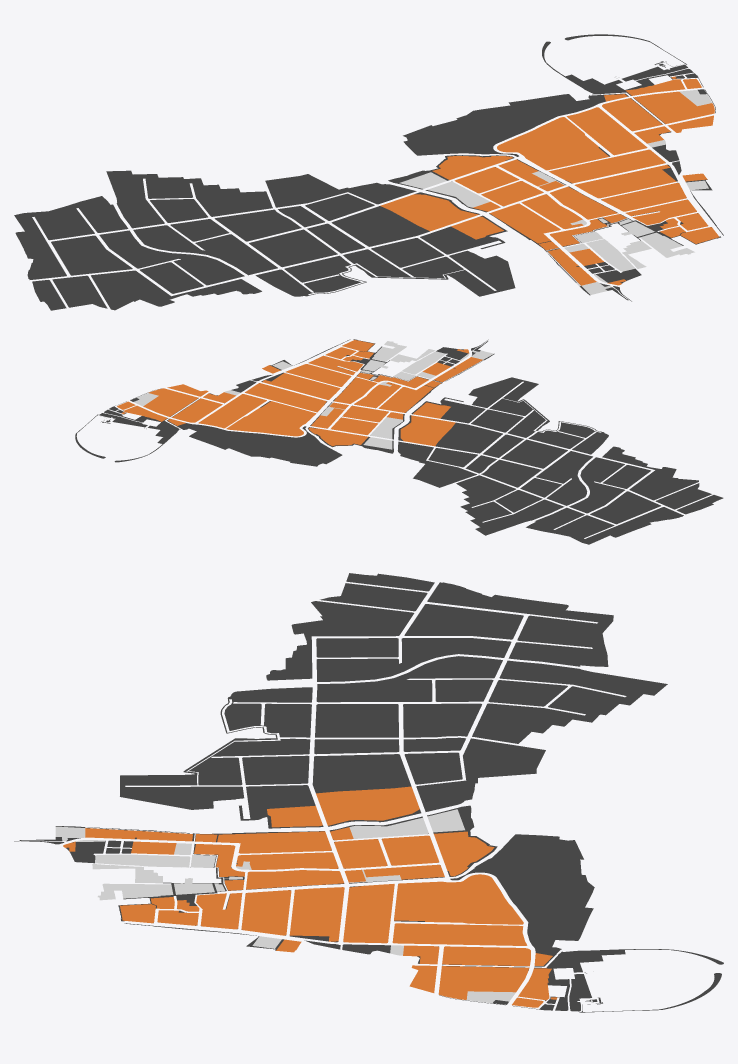
File: segments.glb
3 views of the same model, one above another, from view 1: azimuth 30°, elevation 25°; view 2: azimuth 150°, elevation 25°; view 3: azimuth 270°, elevation 25° (orthographic). The views are drawn at different scales.
Visible parts, largest first — view 1: kapling.segments, kapling.segments.i.191, kapling.segments.i.106, kapling.segments.i.155, kapling.segments.i.135, kapling.segments.i.096, kapling.segments.i.145, kapling.segments.i.195, kapling.segments.i.001, kapling.segments.i.032a, kapling.segments.i.095, kapling.segments.i.034a (+6 smaller); view 2: kapling.segments, kapling.segments.i.191, kapling.segments.i.106, kapling.segments.i.155, kapling.segments.i.135, kapling.segments.i.096, kapling.segments.i.145, kapling.segments.i.195, kapling.segments.i.001, kapling.segments.i.032a, kapling.segments.i.095, kapling.segments.i.034a (+2 smaller); view 3: kapling.segments, kapling.segments.i.191, kapling.segments.i.106, kapling.segments.i.155, kapling.segments.i.135, kapling.segments.i.096, kapling.segments.i.145, kapling.segments.i.195, kapling.segments.i.001, kapling.segments.i.032a, kapling.segments.i.095, kapling.segments.i.034a (+6 smaller).
Part boxes in pixels (left/top/right/bottom): kapling.segments: left=14, top=34, right=723, bottom=310; kapling.segments.i.191: left=380, top=194, right=478, bottom=231; kapling.segments.i.106: left=497, top=117, right=586, bottom=152; kapling.segments.i.155: left=599, top=166, right=676, bottom=194; kapling.segments.i.135: left=518, top=136, right=594, bottom=170; kapling.segments.i.096: left=633, top=91, right=696, bottom=116; kapling.segments.i.145: left=563, top=157, right=632, bottom=183; kapling.segments.i.195: left=451, top=216, right=503, bottom=239; kapling.segments.i.001: left=632, top=183, right=682, bottom=206; kapling.segments.i.032a: left=467, top=167, right=518, bottom=189; kapling.segments.i.095: left=605, top=98, right=650, bottom=121; kapling.segments.i.034a: left=447, top=156, right=512, bottom=171; kapling.segments: left=75, top=339, right=723, bottom=544; kapling.segments.i.191: left=400, top=415, right=455, bottom=446; kapling.segments.i.106: left=226, top=414, right=303, bottom=436; kapling.segments.i.155: left=268, top=373, right=326, bottom=395; kapling.segments.i.135: left=249, top=410, right=315, bottom=428; kapling.segments.i.096: left=143, top=396, right=190, bottom=416; kapling.segments.i.145: left=269, top=389, right=326, bottom=406; kapling.segments.i.195: left=413, top=402, right=450, bottom=418; kapling.segments.i.001: left=286, top=366, right=333, bottom=380; kapling.segments.i.032a: left=331, top=417, right=366, bottom=433; kapling.segments.i.095: left=172, top=405, right=212, bottom=422; kapling.segments.i.034a: left=308, top=427, right=346, bottom=446; kapling.segments: left=14, top=573, right=723, bottom=1012; kapling.segments.i.191: left=316, top=786, right=419, bottom=825; kapling.segments.i.106: left=457, top=874, right=523, bottom=924; kapling.segments.i.155: left=289, top=900, right=342, bottom=936; kapling.segments.i.135: left=397, top=881, right=468, bottom=922; kapling.segments.i.096: left=463, top=966, right=529, bottom=992; kapling.segments.i.145: left=345, top=885, right=392, bottom=923; kapling.segments.i.195: left=267, top=805, right=322, bottom=827; kapling.segments.i.001: left=242, top=907, right=289, bottom=935; kapling.segments.i.032a: left=384, top=843, right=439, bottom=865; kapling.segments.i.095: left=473, top=947, right=530, bottom=966; kapling.segments.i.034a: left=439, top=846, right=494, bottom=876.
Bounding box in the file's own units: 5.77 × 1.2e-07 × 3.63.
